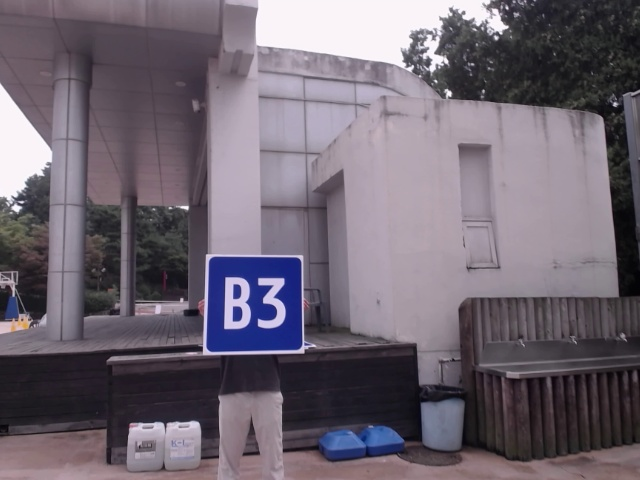delivery_b3: (207, 255, 304, 353)
